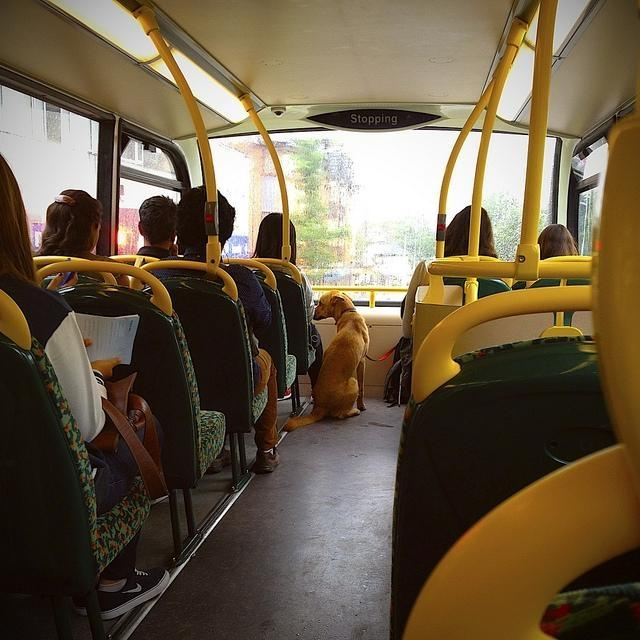bus: (4, 2, 640, 630)
